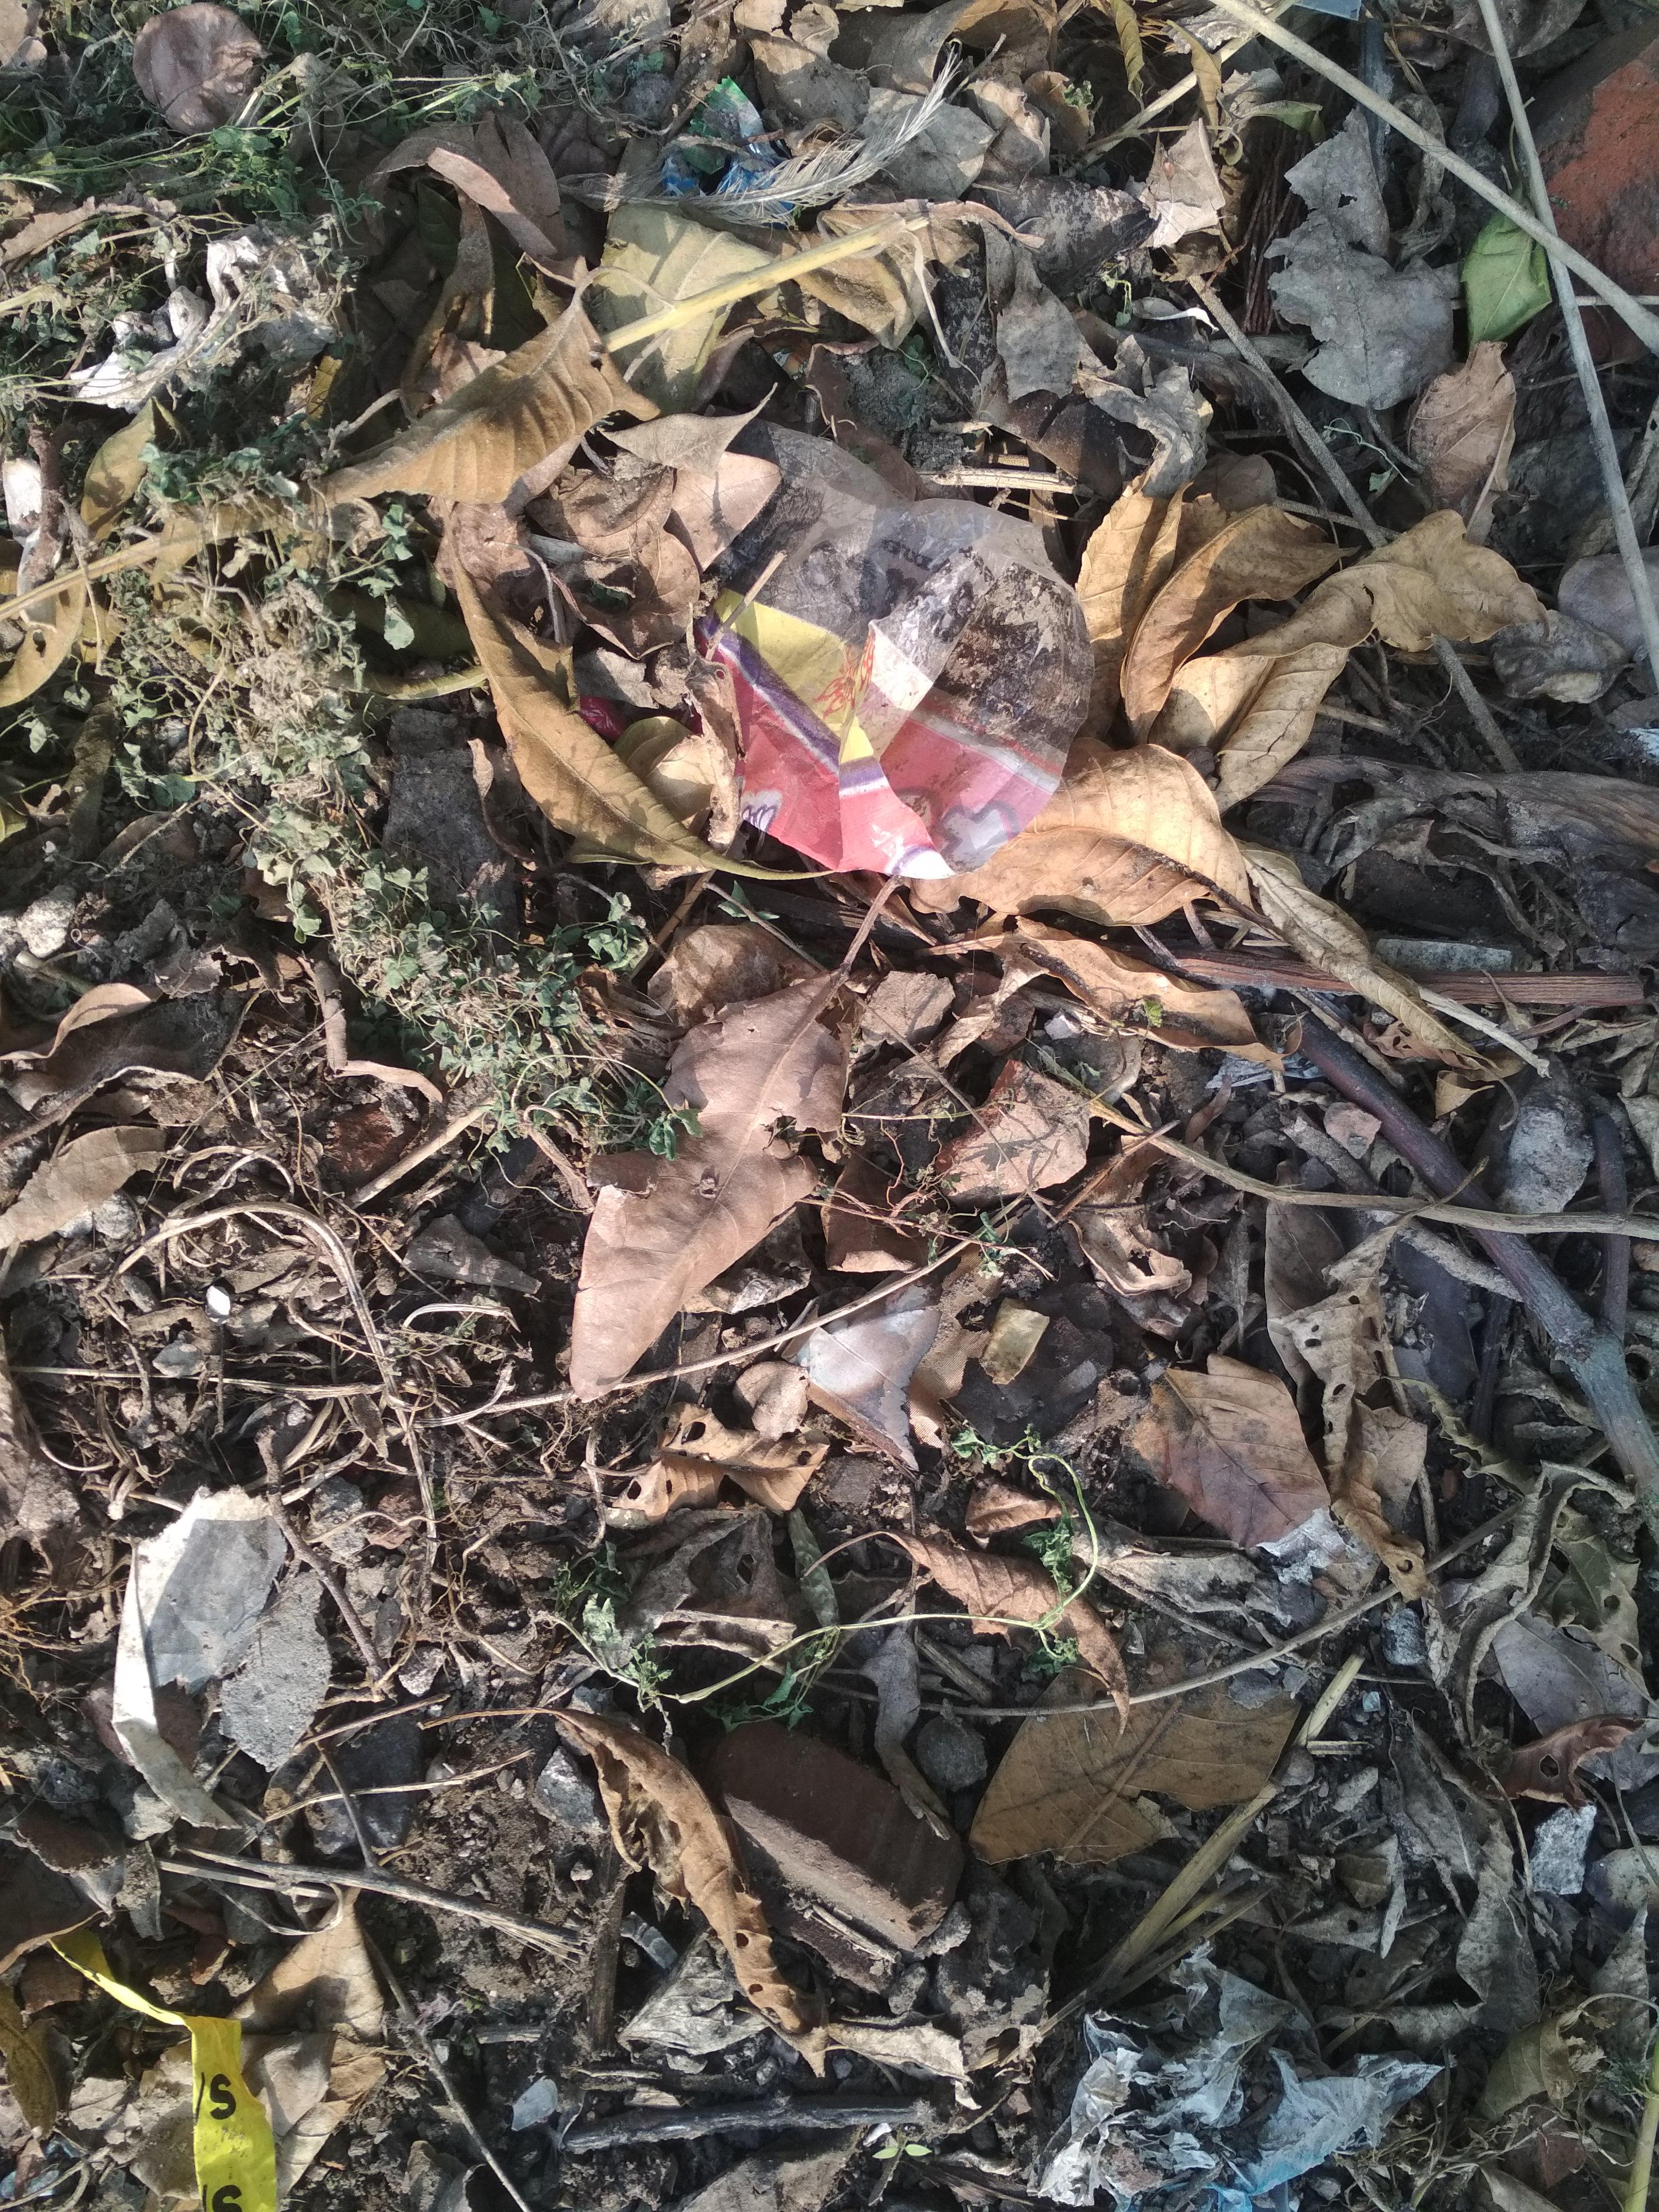trash: (619, 395, 1122, 906)
